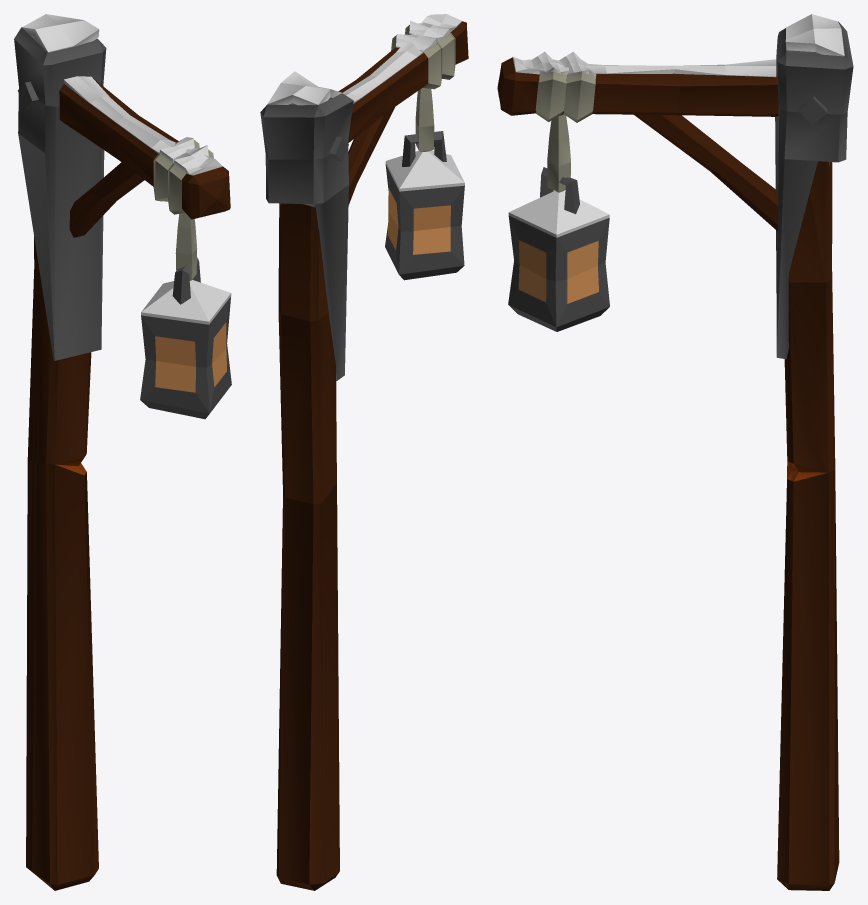
File: Lantern.fbx
3 views of the same model, side by side, from view 1: azimuth 30°, elevation 25°; view 2: azimuth 150°, elevation 25°; view 3: azimuth 270°, elevation 25° (orthographic). The views are drawn at different scales.
Parts seen in each view (by area): view 1: Lantern; view 2: Lantern; view 3: Lantern.
Boxes of the visible parts, x1,y1,x2,y2 form: Lantern: (14, 14, 231, 890); Lantern: (260, 14, 468, 890); Lantern: (497, 14, 853, 890).
Size of the model in its own units: 41.09 by 379 by 143.
